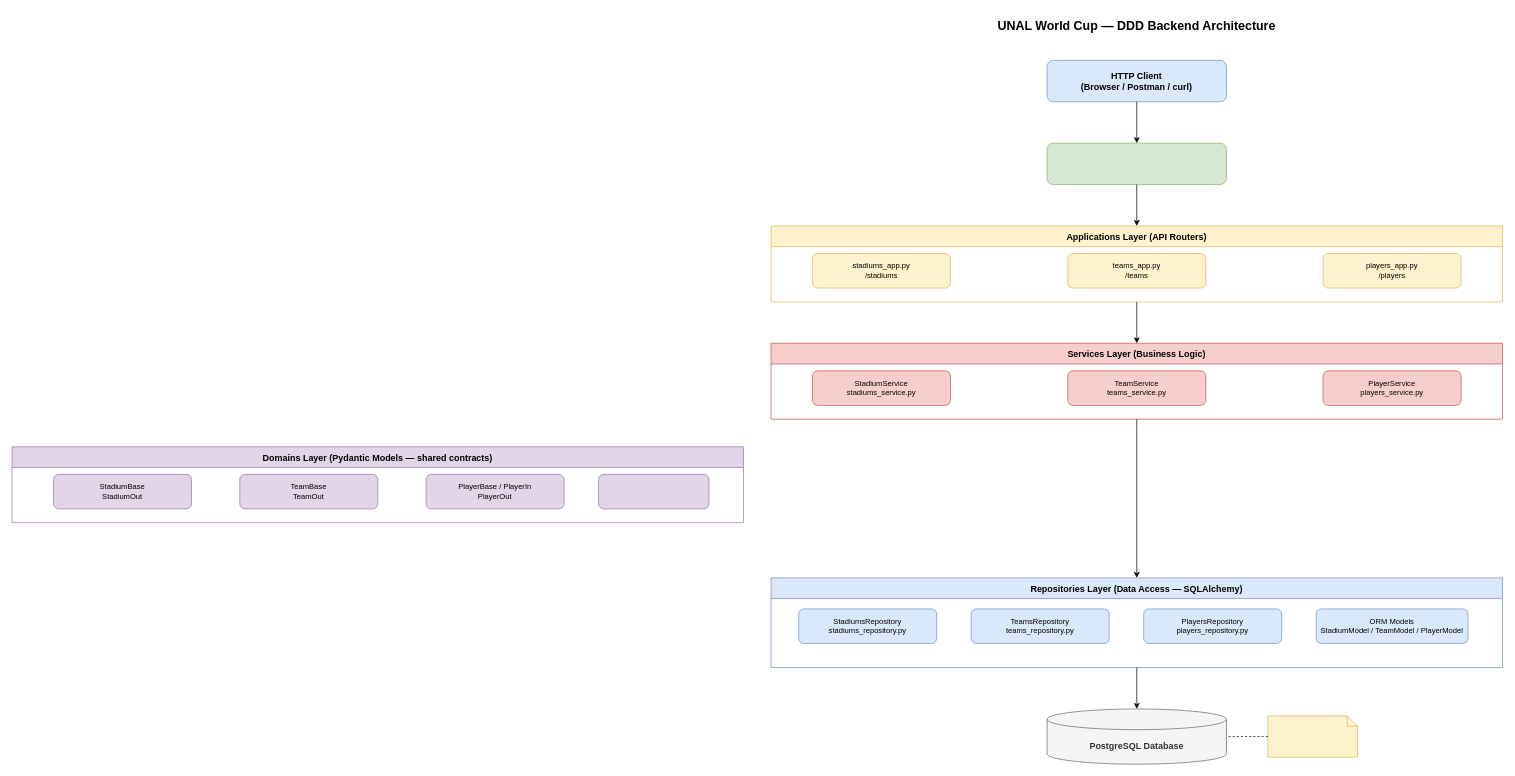
The diagram is 1515 pixels wide and 776 high, and some of its shapes have lost their labels. Each missing label, with the centre of its shape:
.env DB credentials: the point at 1312,736
DBSettings config/db_config.py: the point at 653,491
FastAPI Application main.py: the point at 1136,163
